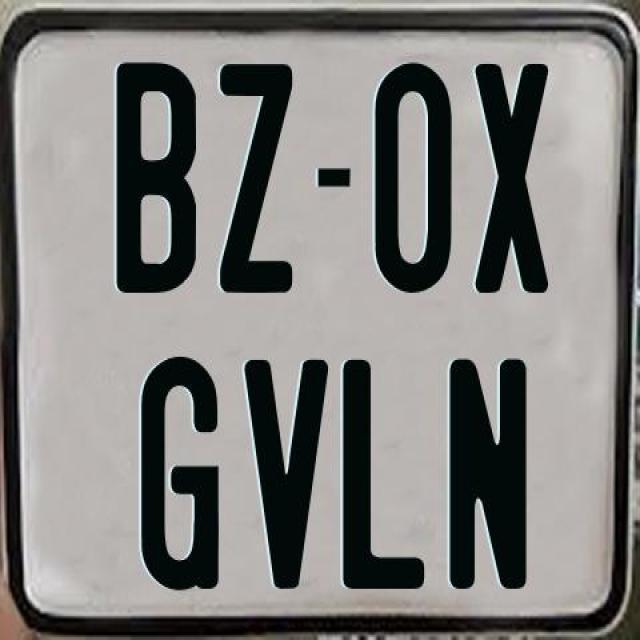0: (373, 61, 458, 301)
B: (115, 58, 196, 292)
G: (140, 352, 226, 594)
L: (340, 361, 428, 594)
N: (445, 357, 527, 592)
V: (242, 357, 326, 589)
X: (473, 61, 551, 294)
Z: (218, 61, 298, 300)
